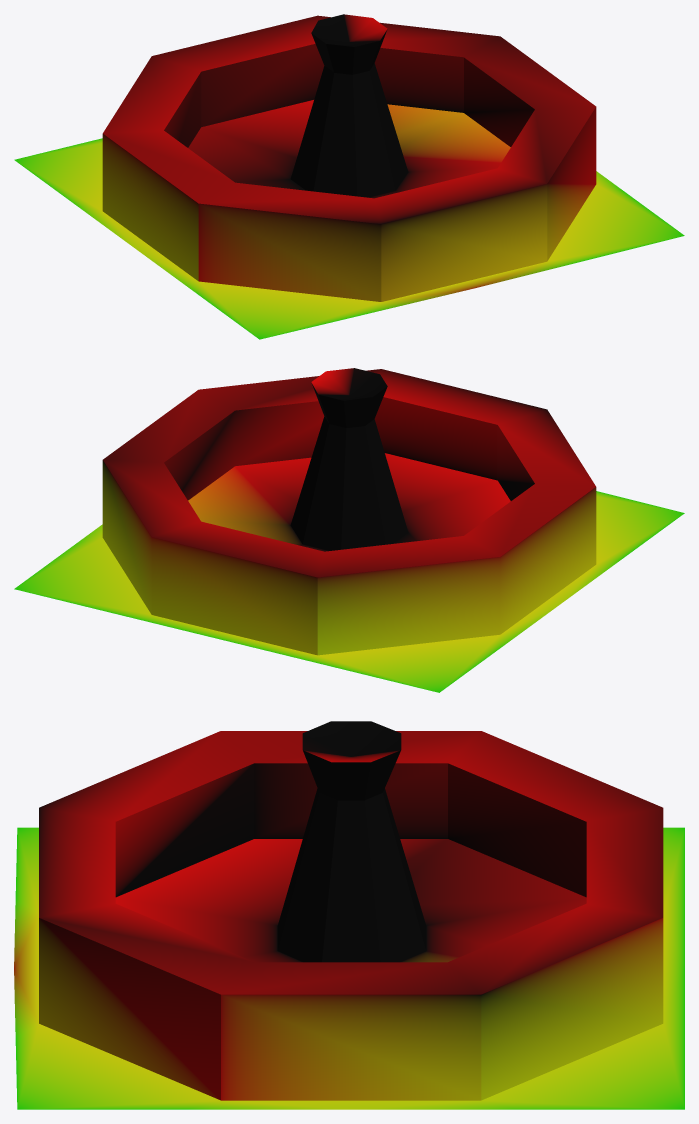
File: SM_Fountain.FBX
3 renders of one model, top to bottom at view 1: azimuth 30°, elevation 25°; view 2: azimuth 150°, elevation 25°; view 3: azimuth 270°, elevation 25°, orthographic. The views are drawn at different scales.
Parts seen in each view (by area): view 1: SM_Fountain; view 2: SM_Fountain; view 3: SM_Fountain.
Boxes of the visible parts, x1,y1,x2,y2 form: SM_Fountain: (14,14,684,339); SM_Fountain: (14,368,684,692); SM_Fountain: (14,721,684,1109).
Bounding box in the file's own units: 400 × 402 × 150.
